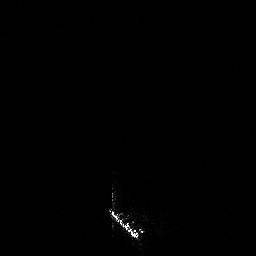ship: (103, 205, 145, 241)
